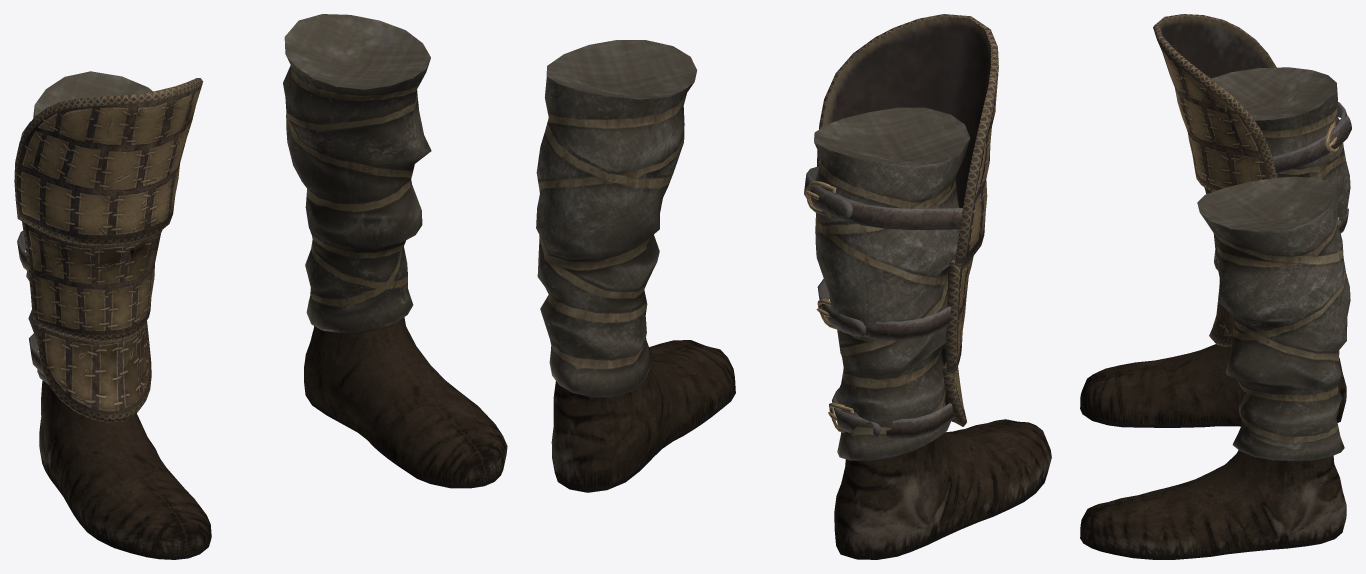
The model's file is dunland_wulf_boots_medium_b.fbx.
The picture shows the model from 3 angles, left to right: view 1: azimuth 30°, elevation 25°; view 2: azimuth 150°, elevation 25°; view 3: azimuth 270°, elevation 25°; orthographic projection. The views are drawn at different scales.
Parts seen in each view (by area): view 1: dunland_wulf_boots_medium_b.boots, dunland_wulf_boots_medium_b.bracer; view 2: dunland_wulf_boots_medium_b.boots, dunland_wulf_boots_medium_b.bracer; view 3: dunland_wulf_boots_medium_b.boots, dunland_wulf_boots_medium_b.bracer.
Part boxes in pixels (left/top/right/bottom): dunland_wulf_boots_medium_b.boots: left=26, top=14, right=507, bottom=559; dunland_wulf_boots_medium_b.bracer: left=14, top=78, right=203, bottom=422; dunland_wulf_boots_medium_b.boots: left=536, top=40, right=1051, bottom=559; dunland_wulf_boots_medium_b.bracer: left=804, top=14, right=998, bottom=438; dunland_wulf_boots_medium_b.boots: left=1080, top=67, right=1350, bottom=559; dunland_wulf_boots_medium_b.bracer: left=1153, top=14, right=1351, bottom=346.
Bounding box in the file's own units: 0.4702 × 0.3016 × 0.4767.
Materials: 1 (1 with a texture image).
